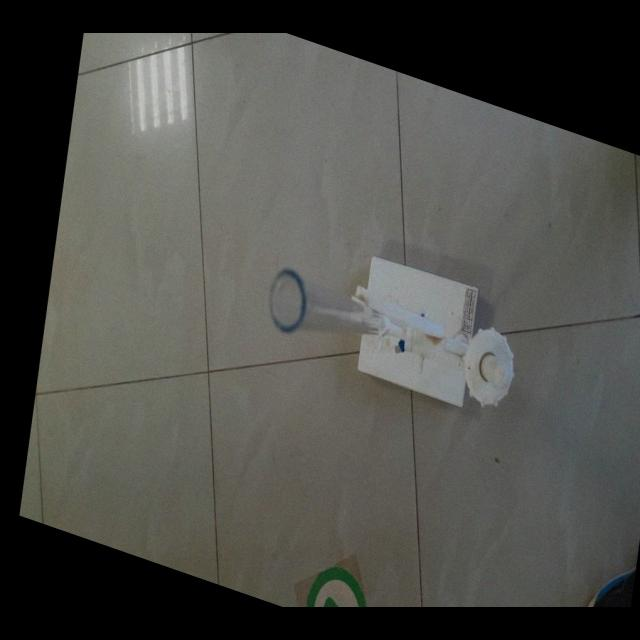Biurette: (258, 232, 426, 417)
